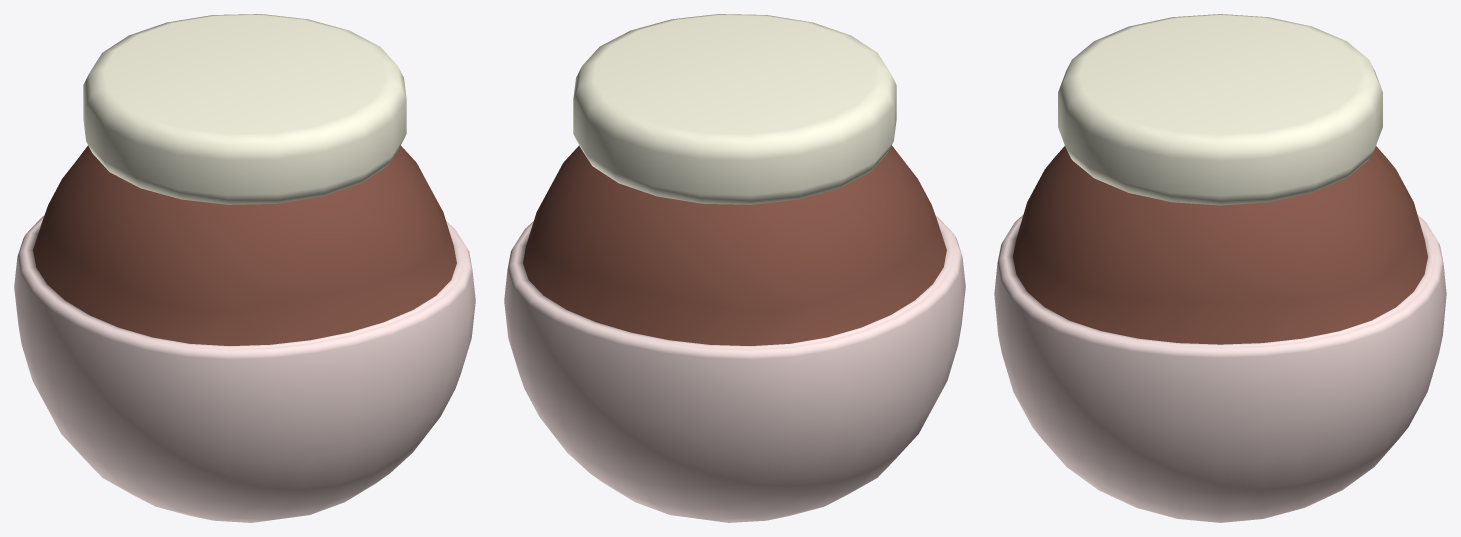
Rendered from Farm_17_Bottle_6.glb.
3 renders of one model, left to right at view 1: azimuth 30°, elevation 25°; view 2: azimuth 150°, elevation 25°; view 3: azimuth 270°, elevation 25°, orthographic.
Parts seen in each view (by area): view 1: Farm_17_Bottle_6; view 2: Farm_17_Bottle_6; view 3: Farm_17_Bottle_6.
Boxes of the visible parts, x1,y1,x2,y2 form: Farm_17_Bottle_6: (14,14,475,522); Farm_17_Bottle_6: (504,14,965,522); Farm_17_Bottle_6: (994,14,1446,522).
Bounding box in the file's own units: 0.3104 × 0.3212 × 0.3104.
Materials: 1 (1 with a texture image).
